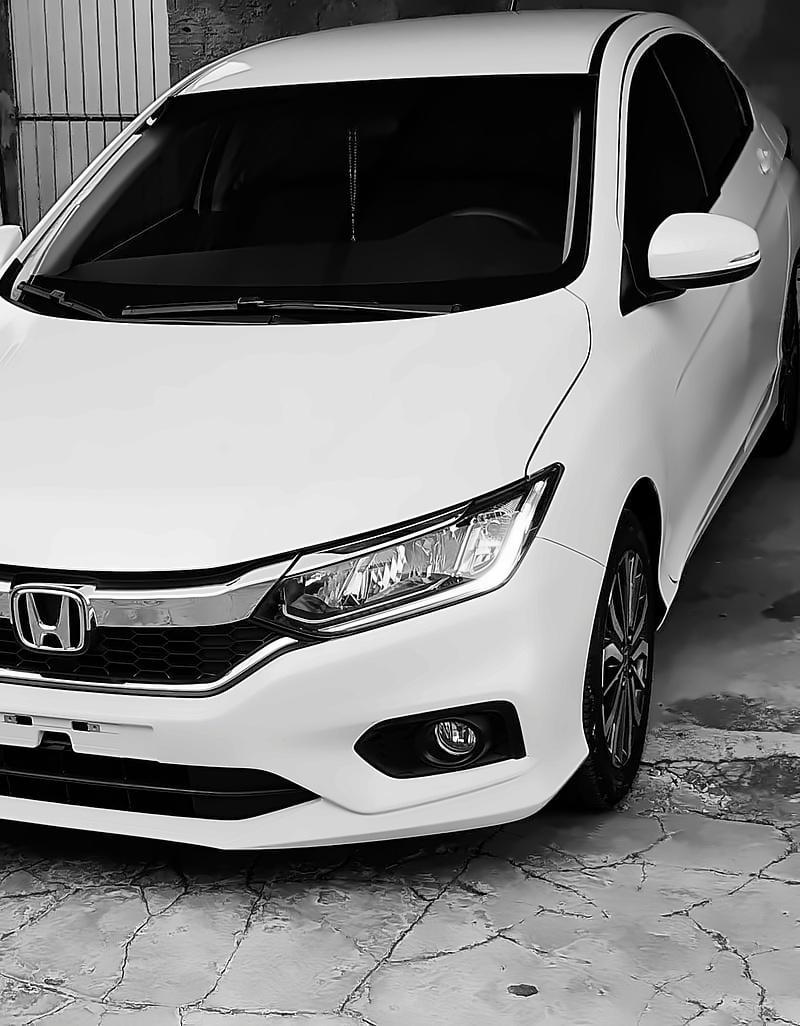Car hood: (0, 269, 593, 580)
Fender - -F-L-: (519, 255, 683, 640)
Front bumper: (0, 530, 605, 857)
Headlight - -L-: (265, 469, 562, 643)
Passenger-s door - -F-L-: (602, 15, 750, 630)
Passenger-s door - -R-L-: (657, 0, 800, 476)
Side bumper - -L-: (638, 335, 792, 628)
Side mirror - -L-: (620, 205, 767, 316)
